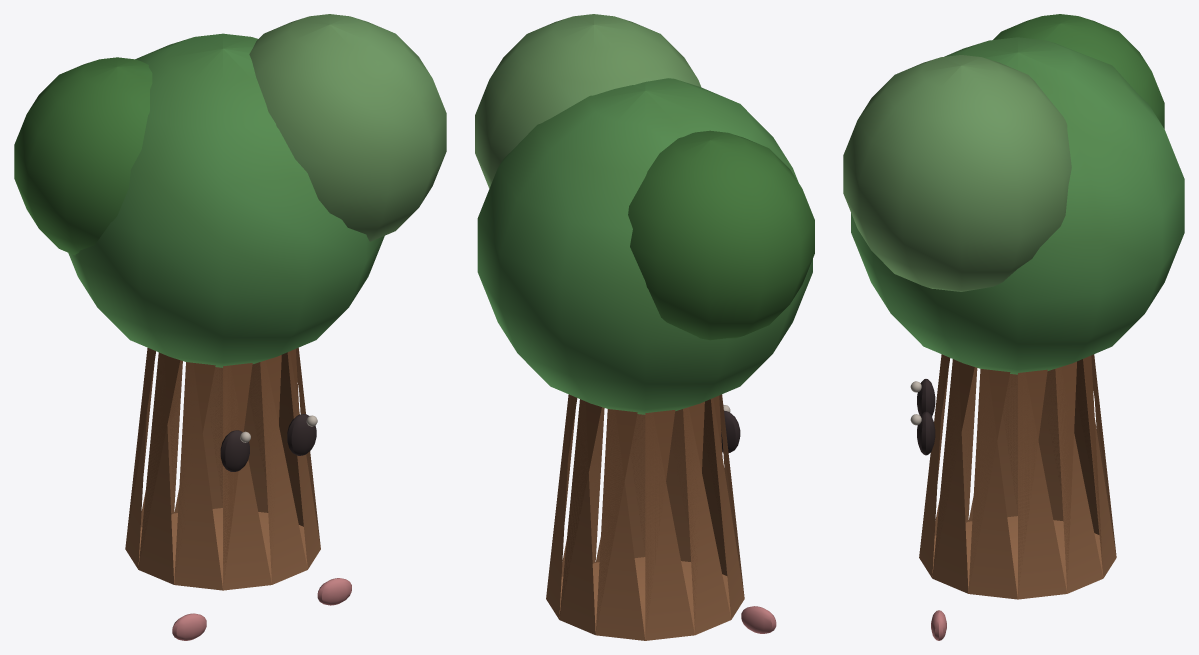
Rendered from pfec6a9d9.glb.
3 renders of one model, left to right at view 1: azimuth 30°, elevation 25°; view 2: azimuth 150°, elevation 25°; view 3: azimuth 270°, elevation 25°, orthographic.
Visible parts, largest first — view 1: pet_pfec6a9d9; view 2: pet_pfec6a9d9; view 3: pet_pfec6a9d9.
Boxes of the visible parts, x1,y1,x2,y2 form: pet_pfec6a9d9: (14,14,446,640); pet_pfec6a9d9: (475,14,814,640); pet_pfec6a9d9: (843,14,1184,640).
Bounding box in the file's own units: 0.5851 × 0.9002 × 0.4838.
